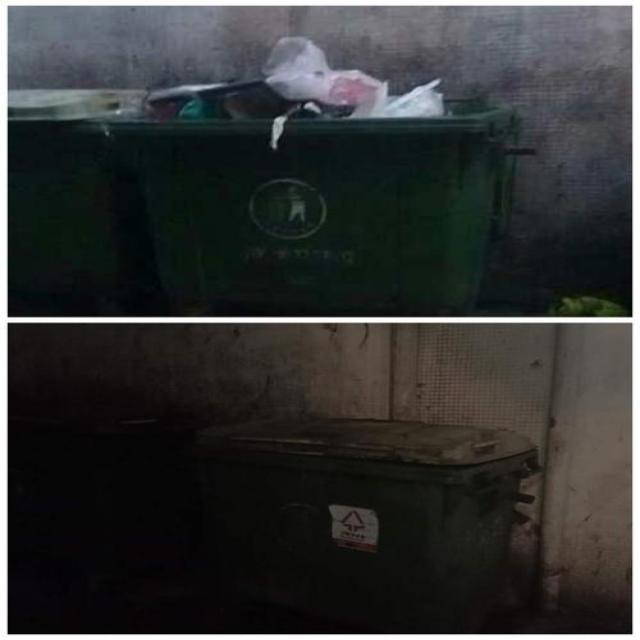garbage_bin: (191, 418, 541, 628), (10, 88, 131, 305)
overflow: (116, 36, 518, 314)
